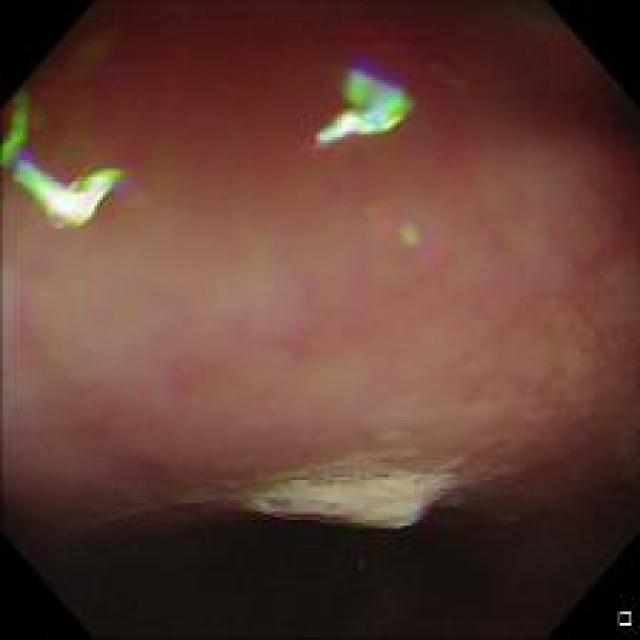blur: (4, 4, 570, 456)
color misalignment: (1, 85, 126, 231), (304, 59, 399, 159), (395, 212, 440, 261), (390, 84, 416, 126)
contrast: (39, 491, 618, 628)
